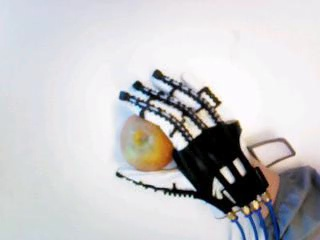apple: (117, 111, 174, 171)
hand: (114, 68, 271, 222)
